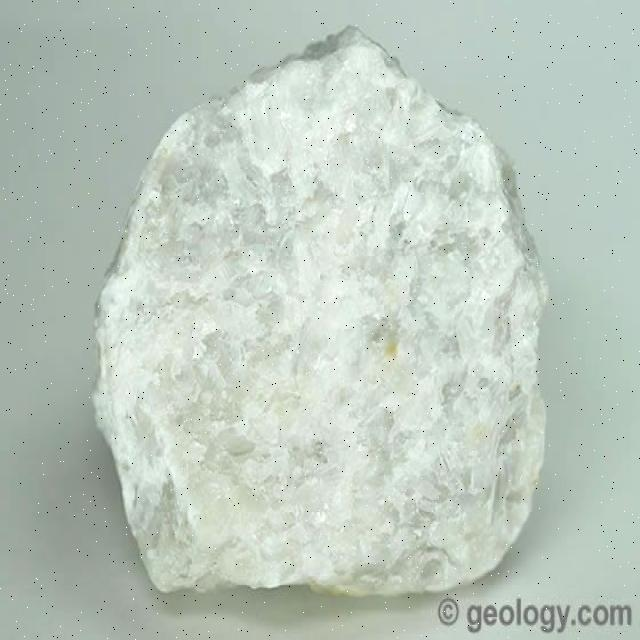Metamorphic: (84, 29, 542, 594)
